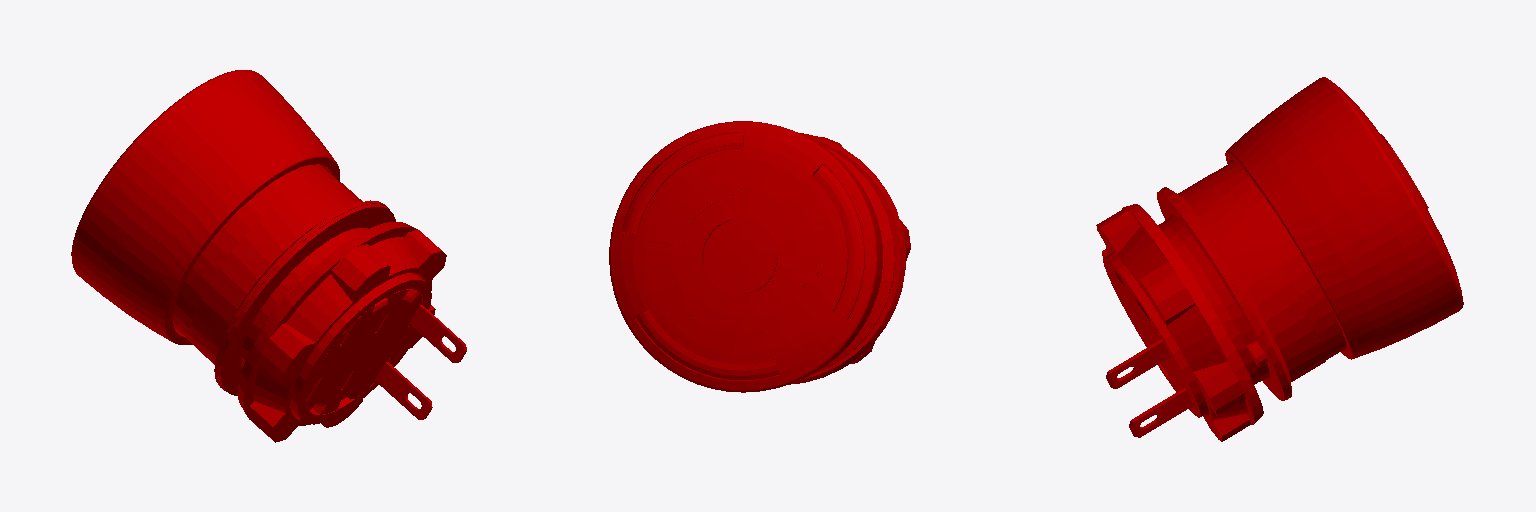
The model's file is estop_link.obj.
The picture shows the model from 3 angles: view 1: azimuth 30°, elevation 25°; view 2: azimuth 150°, elevation 25°; view 3: azimuth 270°, elevation 25°; orthographic projection.
Visible parts, largest first — view 1: obj1; view 2: obj1; view 3: obj1.
Part boxes in pixels (x1,y1,x2,y2): obj1: (71,70,466,442); obj1: (609,121,910,392); obj1: (1096,77,1463,441).
Bounding box in the file's own units: 0.0387 × 0.0413 × 0.0433.